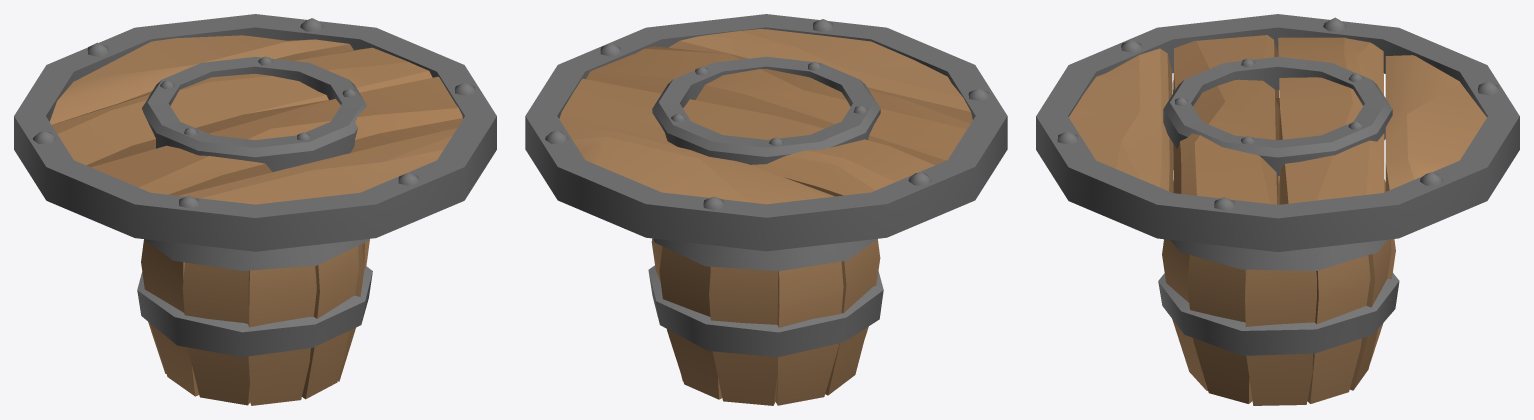
Rendered from Table_G.fbx.
3 views of the same model, side by side, from view 1: azimuth 30°, elevation 25°; view 2: azimuth 150°, elevation 25°; view 3: azimuth 270°, elevation 25° (orthographic).
Parts seen in each view (by area): view 1: Table_G; view 2: Table_G; view 3: Table_G.
Part boxes in pixels (x1,y1,x2,y2): Table_G: (14,14,496,405); Table_G: (525,14,1007,405); Table_G: (1036,14,1519,405).
Bounding box in the file's own units: 163 × 101 × 163.
